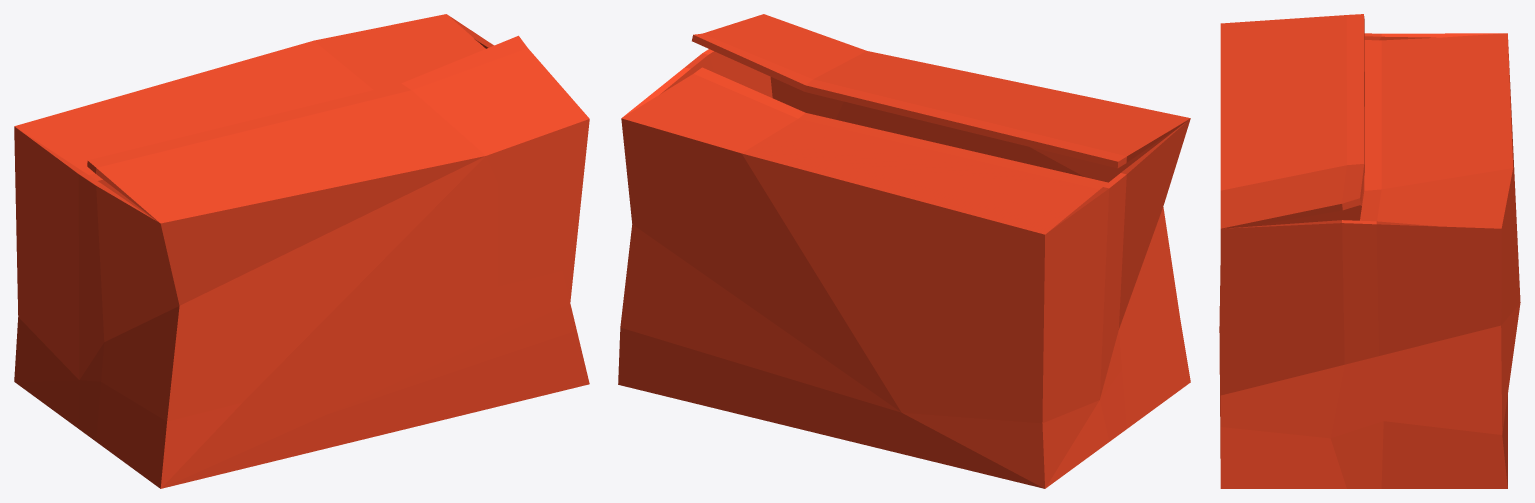
File: SM_Box_B_Smashed_City.fbx
The picture shows the model from 3 angles, left to right: view 1: azimuth 30°, elevation 25°; view 2: azimuth 150°, elevation 25°; view 3: azimuth 270°, elevation 25°; orthographic projection. The views are drawn at different scales.
Parts seen in each view (by area): view 1: SM_Box_B_Smashed_City; view 2: SM_Box_B_Smashed_City; view 3: SM_Box_B_Smashed_City.
Boxes of the visible parts, <box> form: SM_Box_B_Smashed_City: <box>14,14,589,488</box>; SM_Box_B_Smashed_City: <box>618,14,1190,488</box>; SM_Box_B_Smashed_City: <box>1219,14,1520,488</box>.
Bounding box in the file's own units: 0.6952 × 0.4582 × 0.4299.
